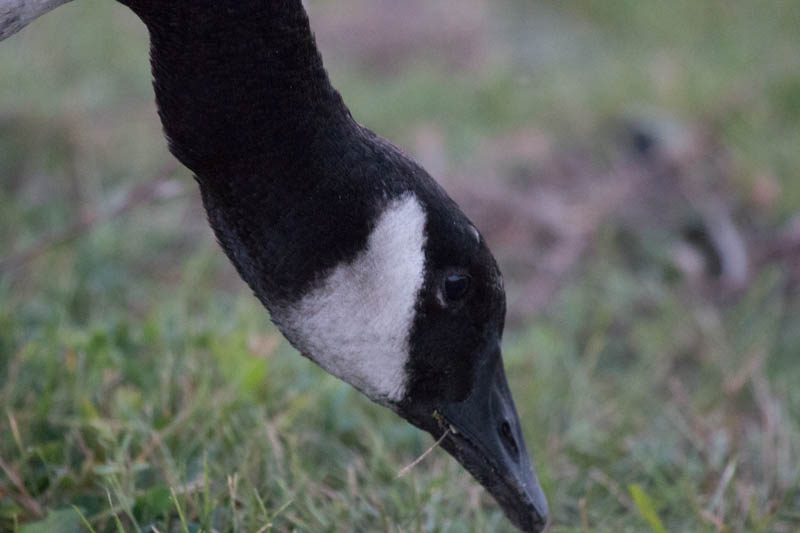goose-head: (198, 133, 552, 530)
